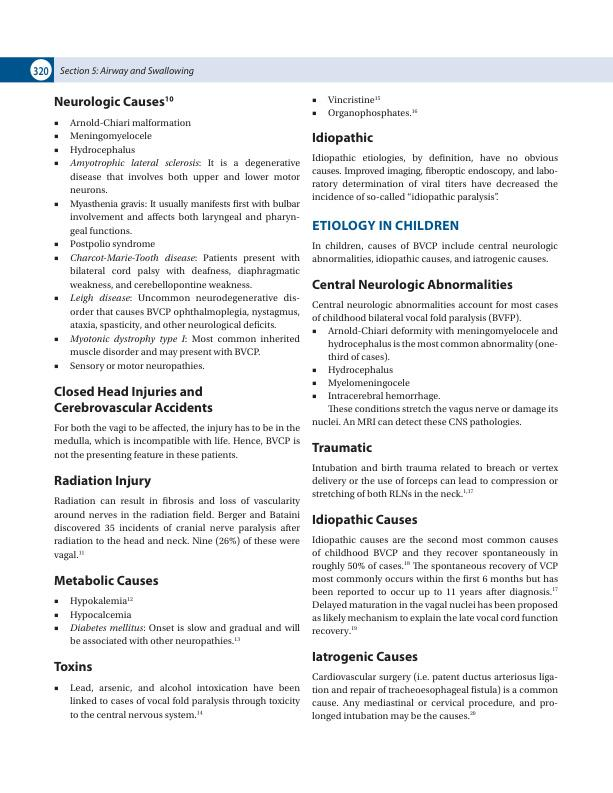header: (59, 65, 195, 77)
list: (53, 118, 301, 373), (311, 326, 559, 403), (53, 596, 300, 648), (52, 682, 301, 722), (311, 94, 418, 121)
section-heading: (312, 220, 459, 231)
sub-section-heading: (53, 385, 214, 414), (311, 278, 513, 293), (53, 95, 174, 109), (311, 513, 419, 528), (53, 473, 152, 489), (311, 651, 419, 664), (53, 574, 159, 587), (312, 131, 374, 146), (311, 441, 373, 453), (53, 660, 93, 672)
text: (311, 535, 559, 638), (53, 496, 301, 561), (311, 153, 559, 204), (311, 672, 559, 722), (53, 423, 302, 461), (311, 463, 559, 501), (311, 240, 559, 266), (311, 404, 559, 429), (311, 300, 559, 324)
